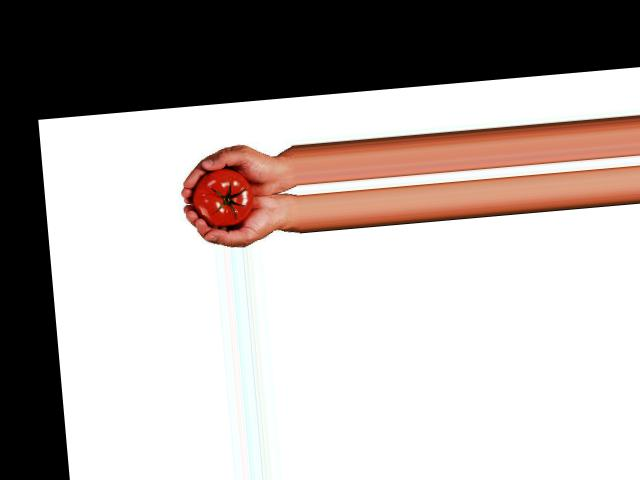tomato: (190, 165, 254, 228)
